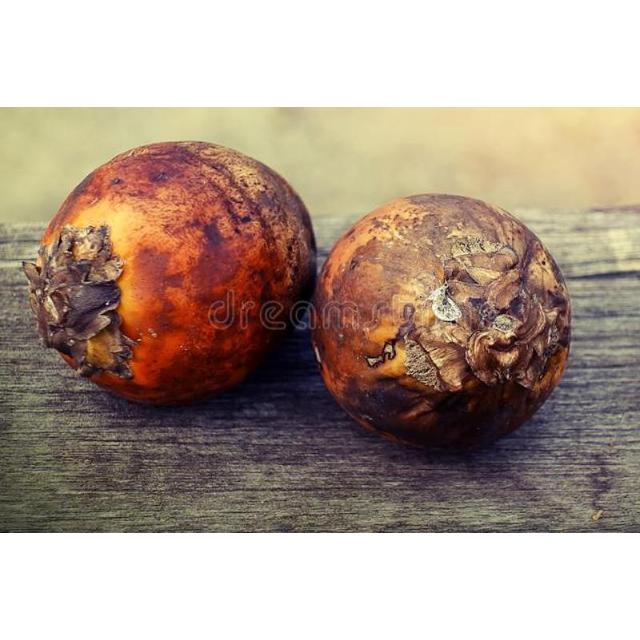damaged: (23, 141, 318, 408), (310, 193, 572, 453)
